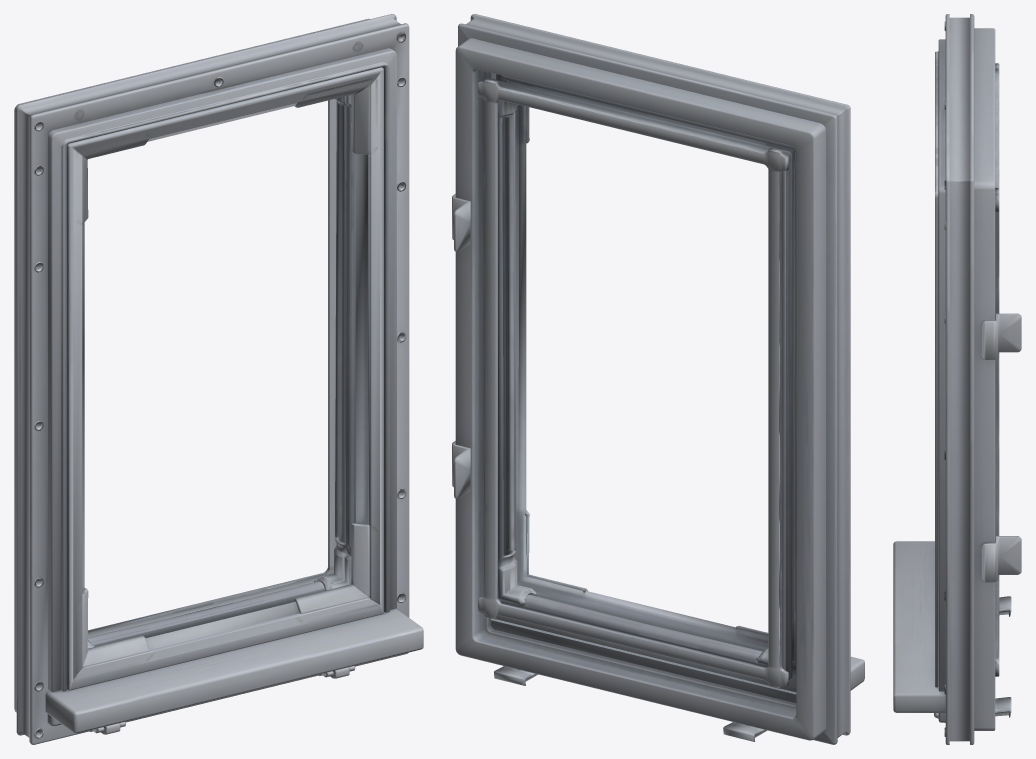
File: tripo_convert_f10197eb-10c1-442b-af17-09ff87641e8d.fbx
3 views of the same model, side by side, from view 1: azimuth 30°, elevation 25°; view 2: azimuth 150°, elevation 25°; view 3: azimuth 270°, elevation 25° (orthographic). The views are drawn at different scales.
Parts seen in each view (by area): view 1: tripo_part_9, tripo_part_8, tripo_part_13, tripo_part_46, tripo_part_5, tripo_part_1, tripo_part_39, tripo_part_3, tripo_part_11, tripo_part_38, tripo_part_0, tripo_part_51 (+3 smaller); view 2: tripo_part_0, tripo_part_9, tripo_part_5, tripo_part_1, tripo_part_13, tripo_part_3, tripo_part_52, tripo_part_46, tripo_part_8, tripo_part_47, tripo_part_15, tripo_part_14 (+2 smaller); view 3: tripo_part_9, tripo_part_0, tripo_part_46, tripo_part_8, tripo_part_5, tripo_part_14, tripo_part_15, tripo_part_2, tripo_part_6.
Part boxes in pixels (x1,y1,x2,y2): tripo_part_9: (16, 14, 409, 744); tripo_part_8: (48, 48, 396, 692); tripo_part_13: (67, 70, 383, 690); tripo_part_46: (45, 608, 423, 733); tripo_part_5: (87, 99, 336, 637); tripo_part_1: (87, 95, 351, 648); tripo_part_39: (67, 67, 383, 154); tripo_part_3: (317, 106, 351, 590); tripo_part_11: (294, 523, 369, 613); tripo_part_38: (349, 107, 354, 584); tripo_part_0: (14, 18, 370, 712); tripo_part_51: (87, 581, 324, 644); tripo_part_0: (455, 38, 825, 740); tripo_part_9: (458, 14, 850, 744); tripo_part_5: (478, 78, 788, 688); tripo_part_1: (484, 75, 796, 679); tripo_part_13: (496, 74, 796, 677); tripo_part_3: (505, 112, 536, 599); tripo_part_52: (523, 597, 760, 663); tripo_part_46: (491, 618, 864, 694); tripo_part_8: (498, 74, 796, 671); tripo_part_47: (794, 152, 795, 660); tripo_part_15: (452, 441, 470, 499); tripo_part_14: (452, 194, 470, 251); tripo_part_9: (945, 14, 974, 744); tripo_part_0: (974, 28, 995, 730); tripo_part_46: (893, 541, 945, 712); tripo_part_8: (935, 39, 945, 691); tripo_part_5: (995, 63, 999, 676); tripo_part_14: (981, 313, 1021, 359); tripo_part_15: (981, 536, 1021, 582); tripo_part_2: (934, 697, 1011, 718); tripo_part_6: (999, 596, 1011, 616).
Size of the model in its own units: 0.6265 by 0.9995 by 0.2046.
1 material, 1 textured.
